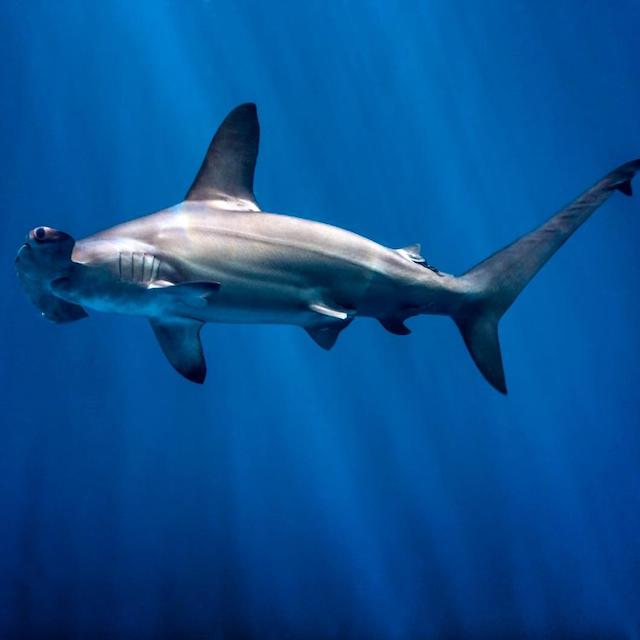hammerhead: (6, 114, 341, 379)
